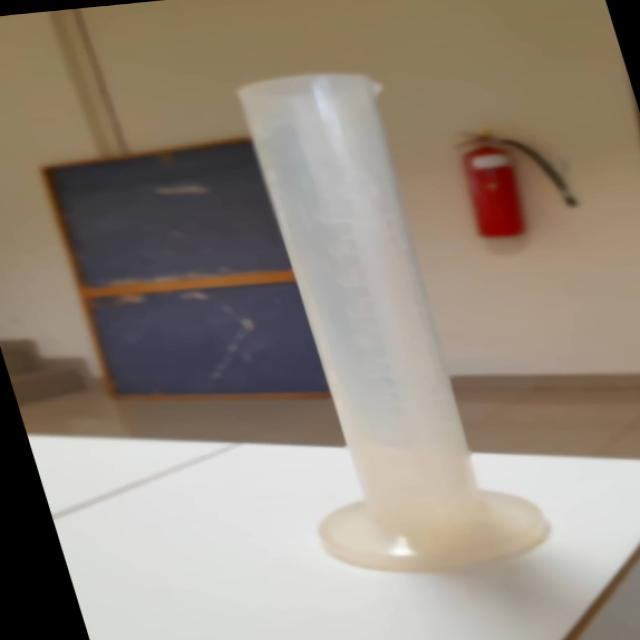Measuring Cylinder: (185, 64, 563, 579)
